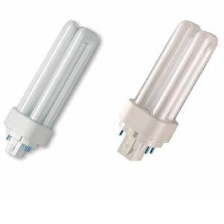light_bulb: (114, 18, 219, 166), (2, 14, 102, 160)
